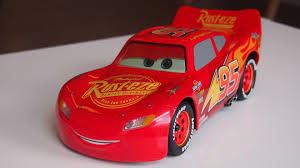mcqueen: (54, 4, 263, 165)
